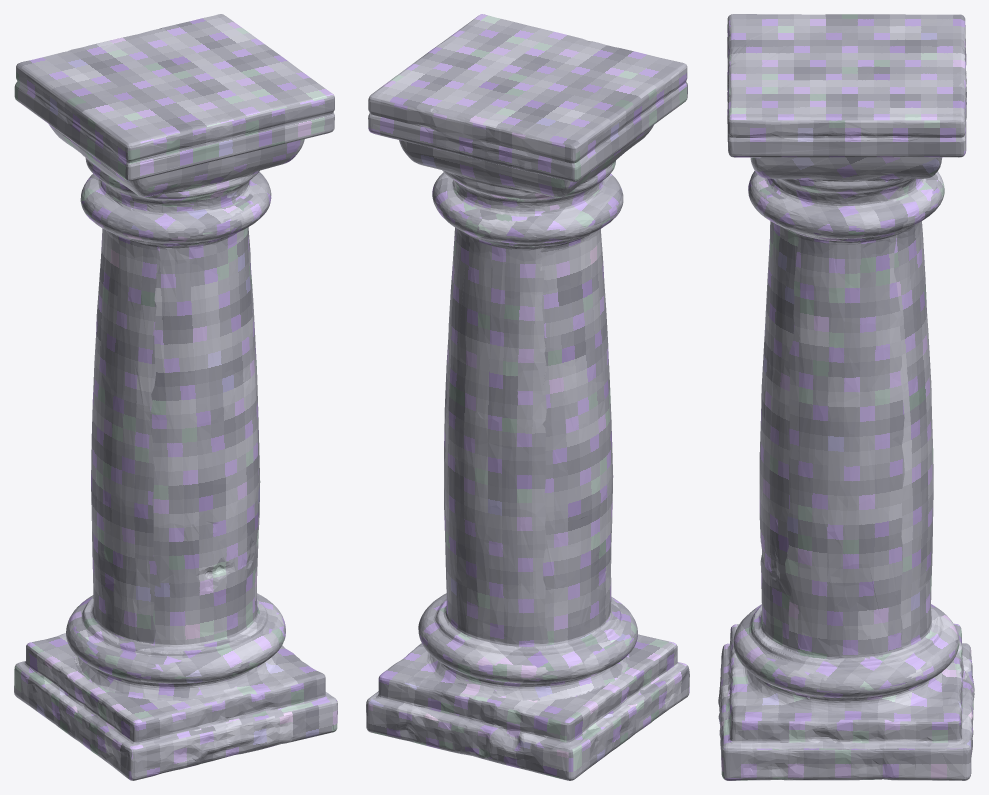
Rendered from yggdrasil-drowned-monolith-west.collider.glb.
The picture shows the model from 3 angles, left to right: view 1: azimuth 30°, elevation 25°; view 2: azimuth 150°, elevation 25°; view 3: azimuth 270°, elevation 25°; orthographic projection. The views are drawn at different scales.
Parts seen in each view (by area): view 1: temp_mesh.ply; view 2: temp_mesh.ply; view 3: temp_mesh.ply.
Boxes of the visible parts, bbox=[...] form: temp_mesh.ply: bbox=[14, 14, 337, 780]; temp_mesh.ply: bbox=[366, 14, 689, 780]; temp_mesh.ply: bbox=[718, 14, 974, 780].
Size of the model in its own units: 0.6842 by 1.97 by 0.6912.
Materials: 1 (1 with a texture image).
